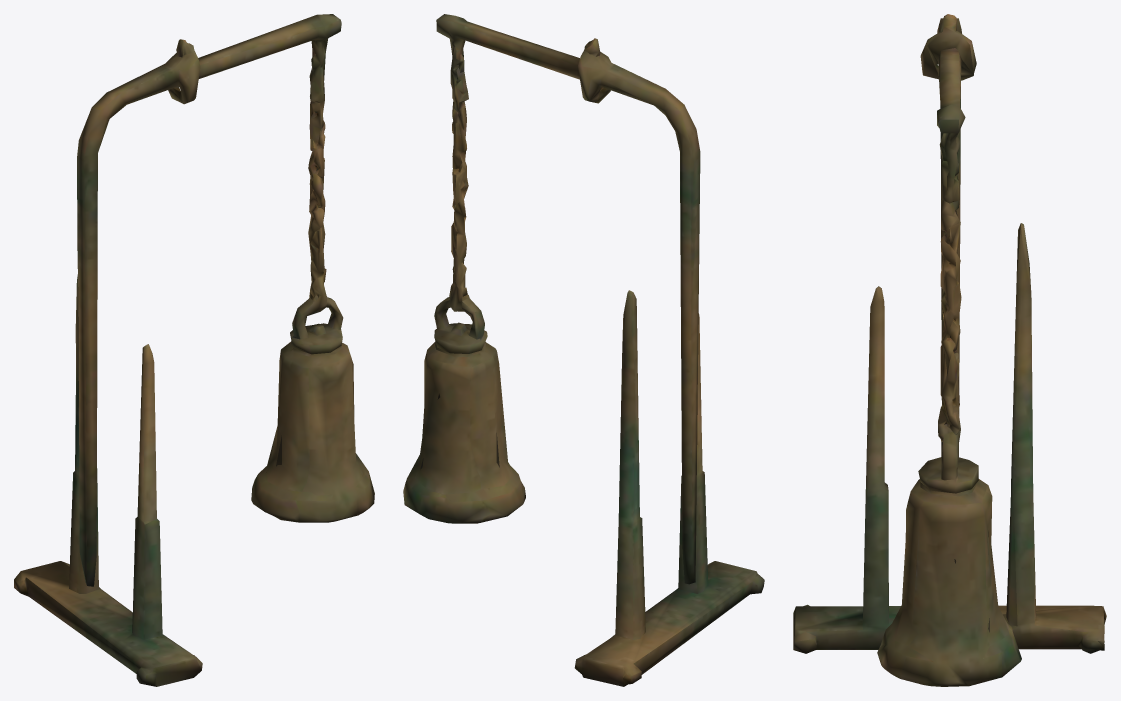
Rendered from sturdy-bronze-bell-v001.glb.
The picture shows the model from 3 angles, left to right: view 1: azimuth 30°, elevation 25°; view 2: azimuth 150°, elevation 25°; view 3: azimuth 270°, elevation 25°; orthographic projection. The views are drawn at different scales.
Visible parts, largest first — view 1: sturdy-bronze-bell; view 2: sturdy-bronze-bell; view 3: sturdy-bronze-bell.
Boxes of the visible parts, bbox=[...] form: sturdy-bronze-bell: bbox=[14, 14, 374, 686]; sturdy-bronze-bell: bbox=[403, 14, 764, 686]; sturdy-bronze-bell: bbox=[793, 14, 1106, 686].
Size of the model in its own units: 0.7205 by 1.37 by 0.5817.
Materials: 1 (1 with a texture image).
